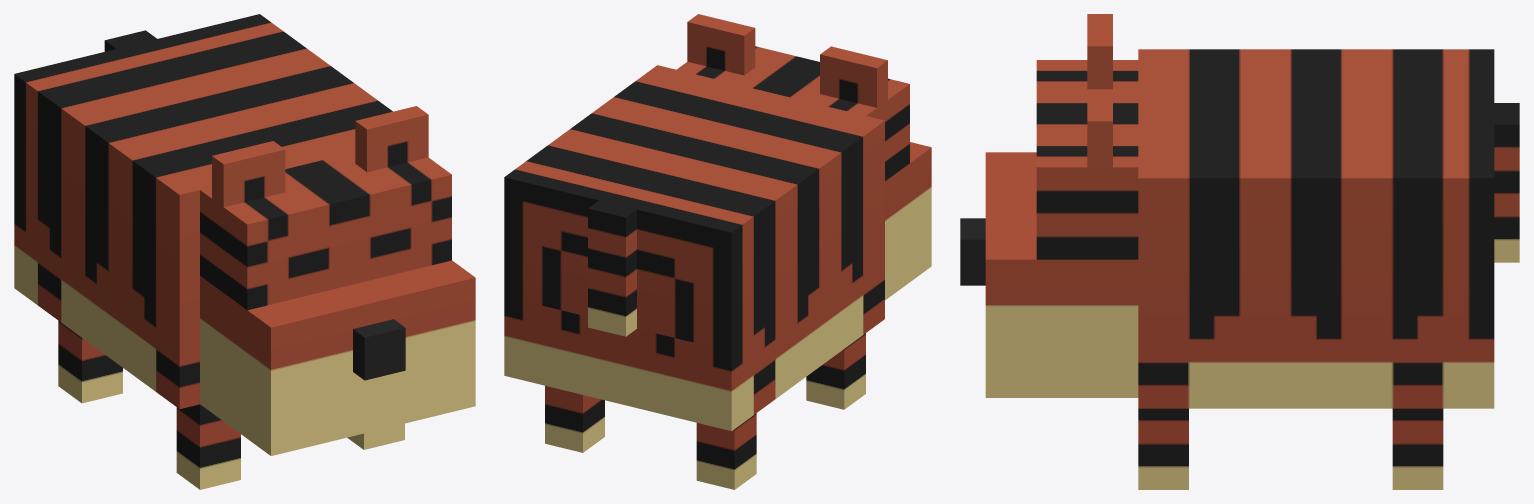
3 views of the same model, side by side, from view 1: azimuth 30°, elevation 25°; view 2: azimuth 150°, elevation 25°; view 3: azimuth 270°, elevation 25° (orthographic). The views are drawn at different scales.
Visible parts, largest first — view 1: cr030; view 2: cr030; view 3: cr030.
Boxes of the visible parts, x1,y1,x2,y2 form: cr030: (14,14,475,489); cr030: (504,14,931,489); cr030: (960,14,1519,489).
Bounding box in the file's own units: 12 × 16 × 22.
